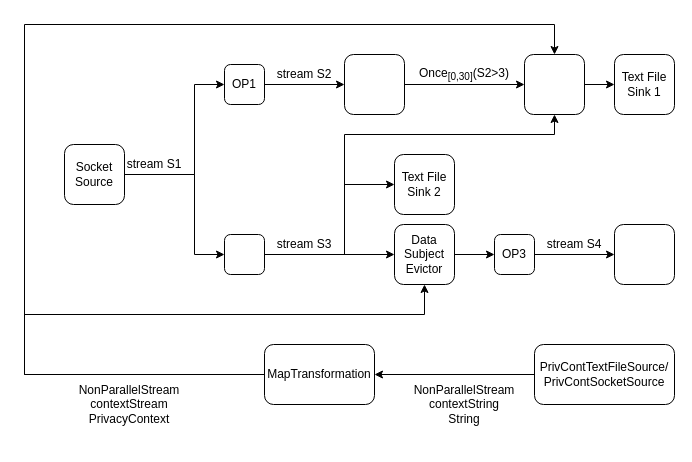
The diagram is 692 pixels wide and 462 high, and some of its shapes have lost their labels. Here are the shapes that lost their labels. From the top down, the centre of each, then its label:
At point 374,84: "Past Condition Checker".
At point 554,84: "View Builder".
At point 244,254: "OP2".
At point 644,254: "Text File Sink 3".
